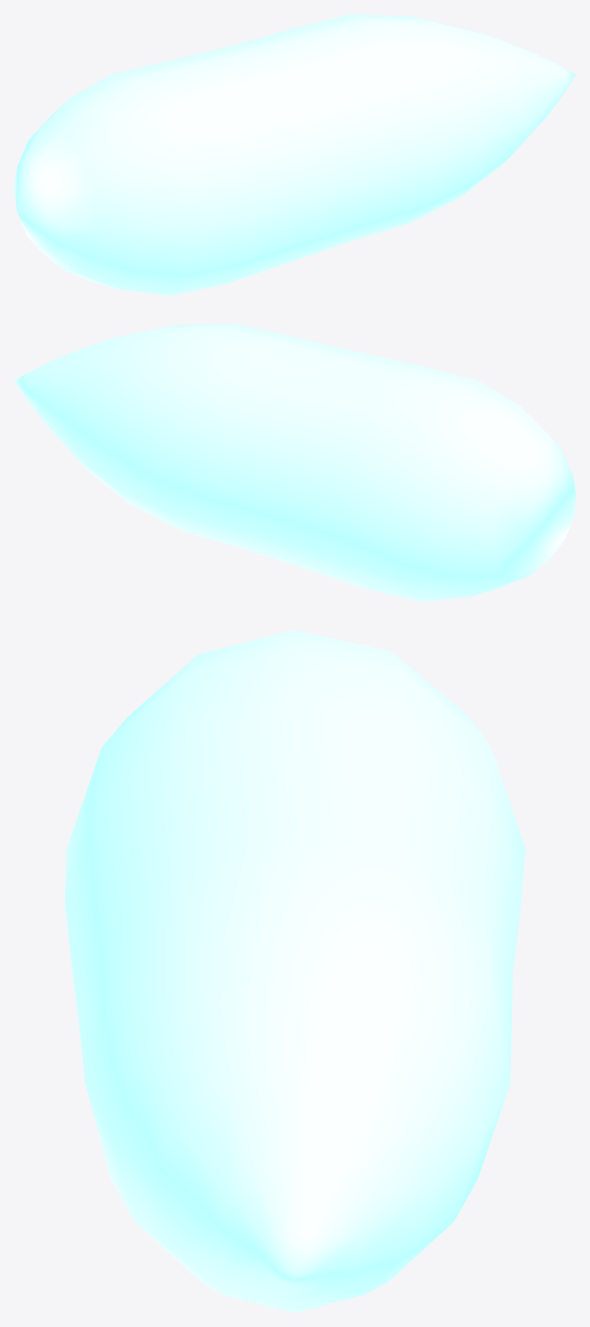
File: Plasma_Bolt.glb
3 renders of one model, top to bottom at view 1: azimuth 30°, elevation 25°; view 2: azimuth 150°, elevation 25°; view 3: azimuth 270°, elevation 25°, orthographic. The views are drawn at different scales.
Parts seen in each view (by area): view 1: Plasma_Bolt; view 2: Plasma_Bolt; view 3: Plasma_Bolt.
Part boxes in pixels (<box>): Plasma_Bolt: <box>14,14,575,295</box>; Plasma_Bolt: <box>14,324,575,601</box>; Plasma_Bolt: <box>64,630,525,1312</box>.
Bounding box in the file's own units: 1 × 0.3596 × 0.3568.
